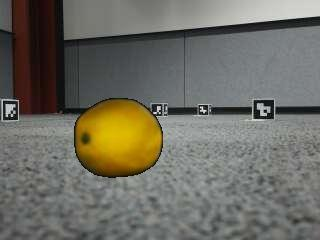lemon: (74, 99, 162, 177)
